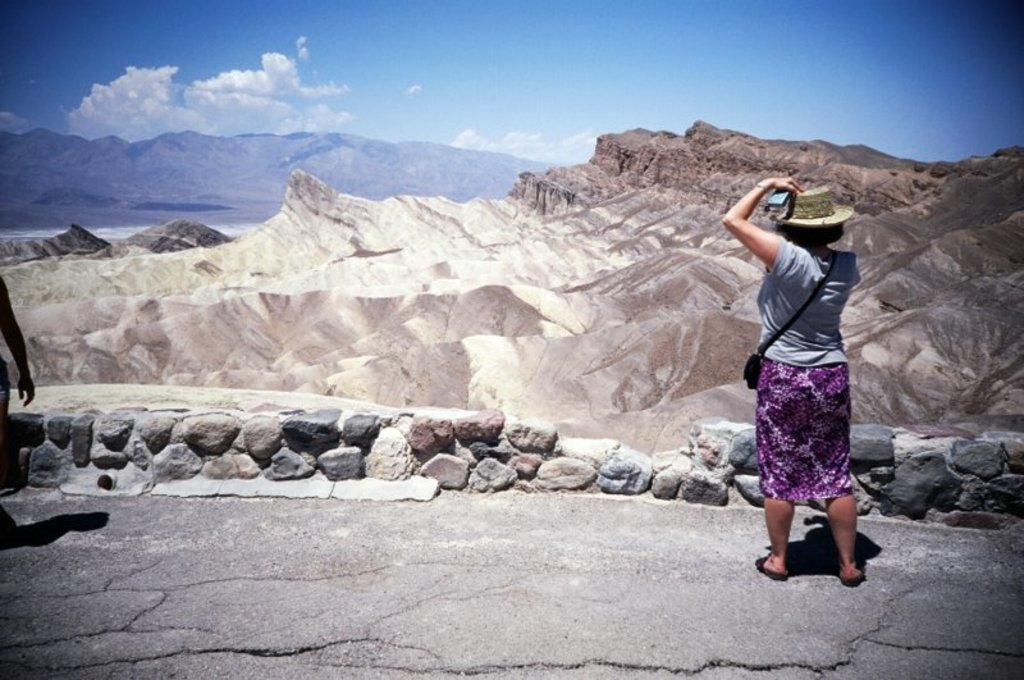Footwear: (754, 557, 787, 583), (837, 563, 868, 584)
